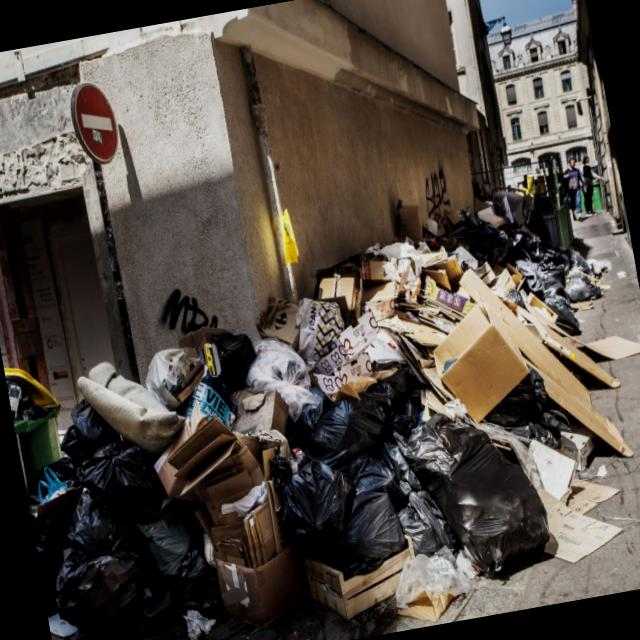garbage: (4, 148, 640, 640)
